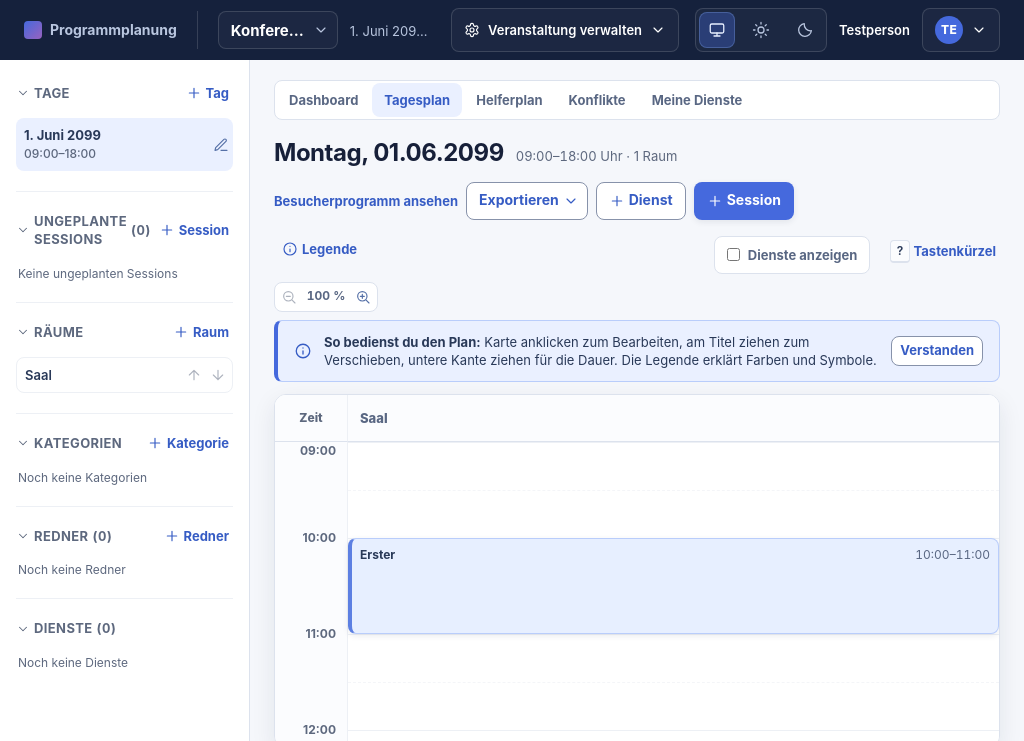
it: saves unsaved input before closing the editor
The width and height of the screenshot is (1024, 741).
Click the button with aria-label "Erster bearbeiten" at coordinates (378, 555), box [360,547,395,563]
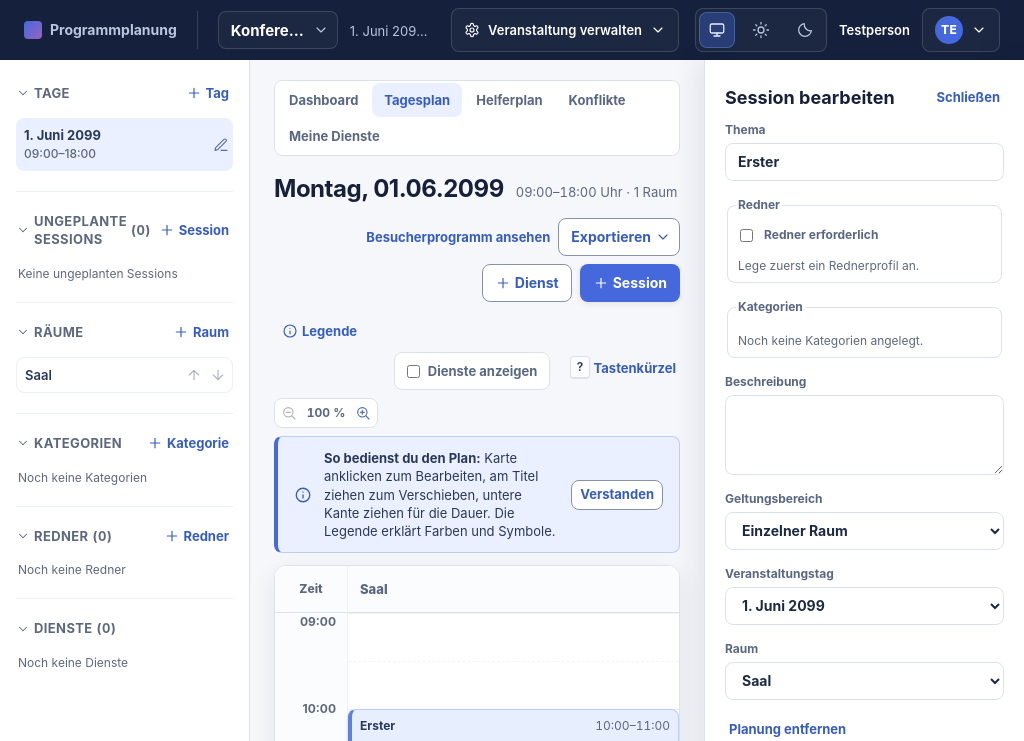
Expected: the text "Ungespeichert" is not shown
Type "Halb fertig" into the text box labelled "Beschreibung" at coordinates (864, 435), box [725,395,1004,475]
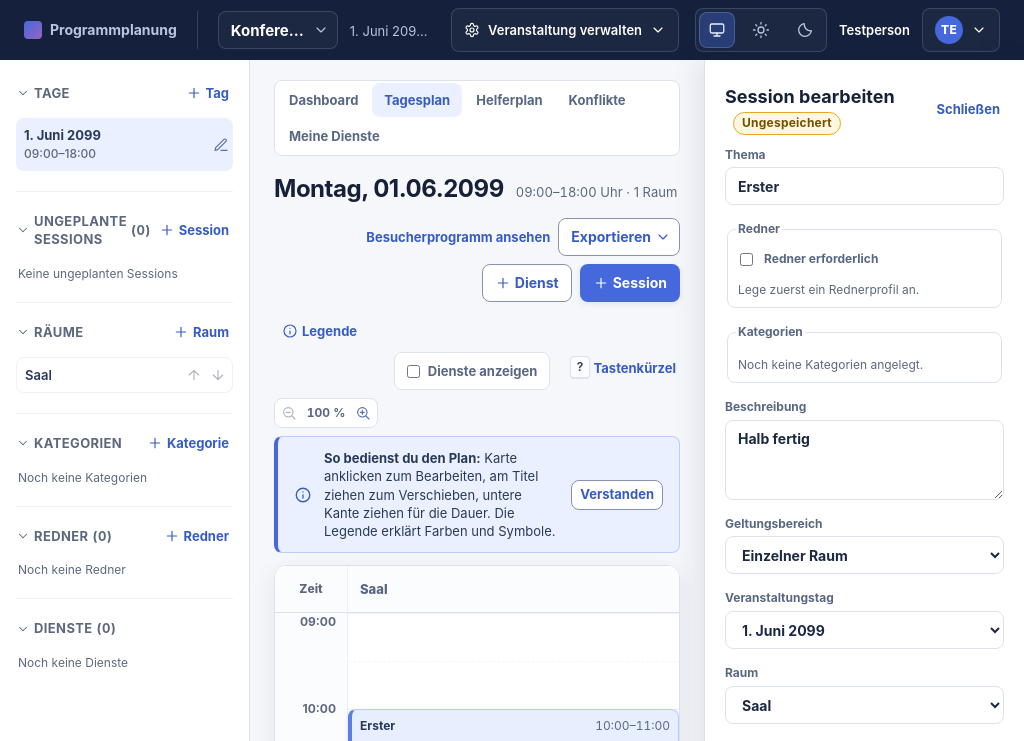
Expected: the text "Ungespeichert" is shown, [733,112,841,135]
Click the button "Schließen" at coordinates (968, 109), box [933,96,1004,122]
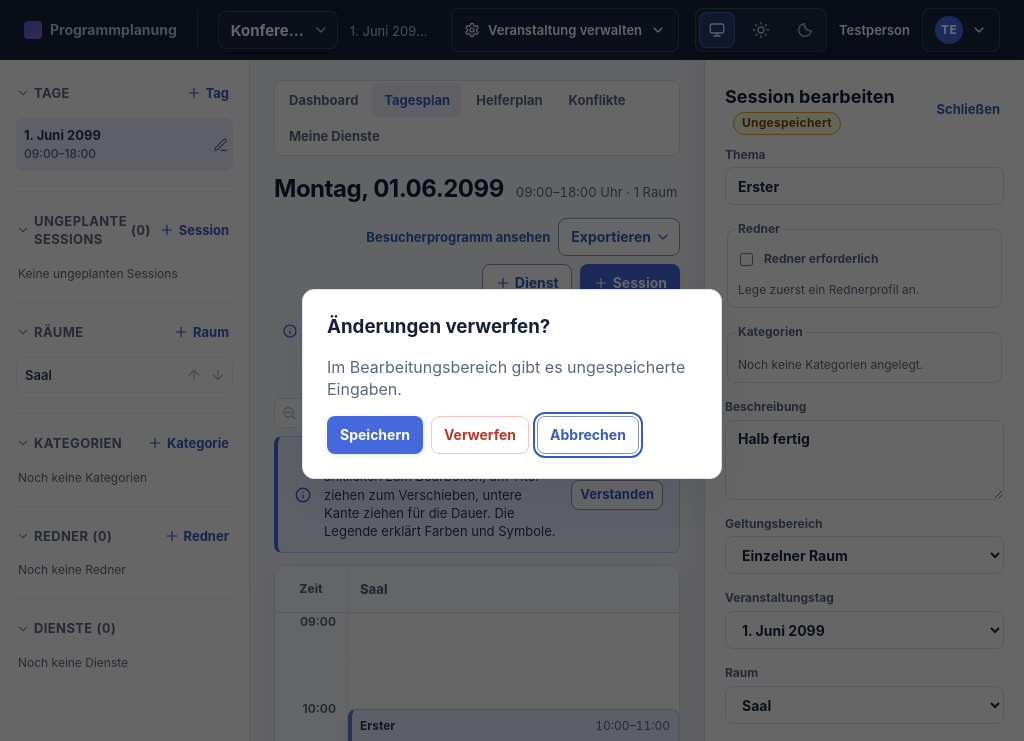
Click the button "Speichern" at coordinates (375, 436), box [327,416,423,454]
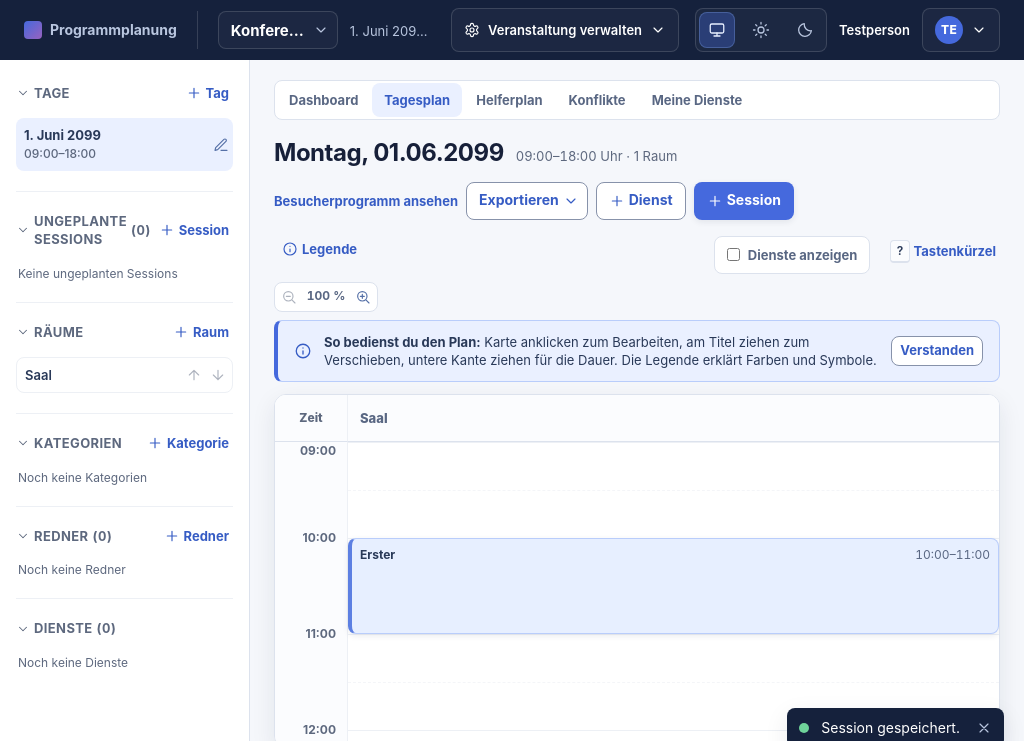
Expected: the heading "Session bearbeiten" is gone
Expected: the dialog is gone
